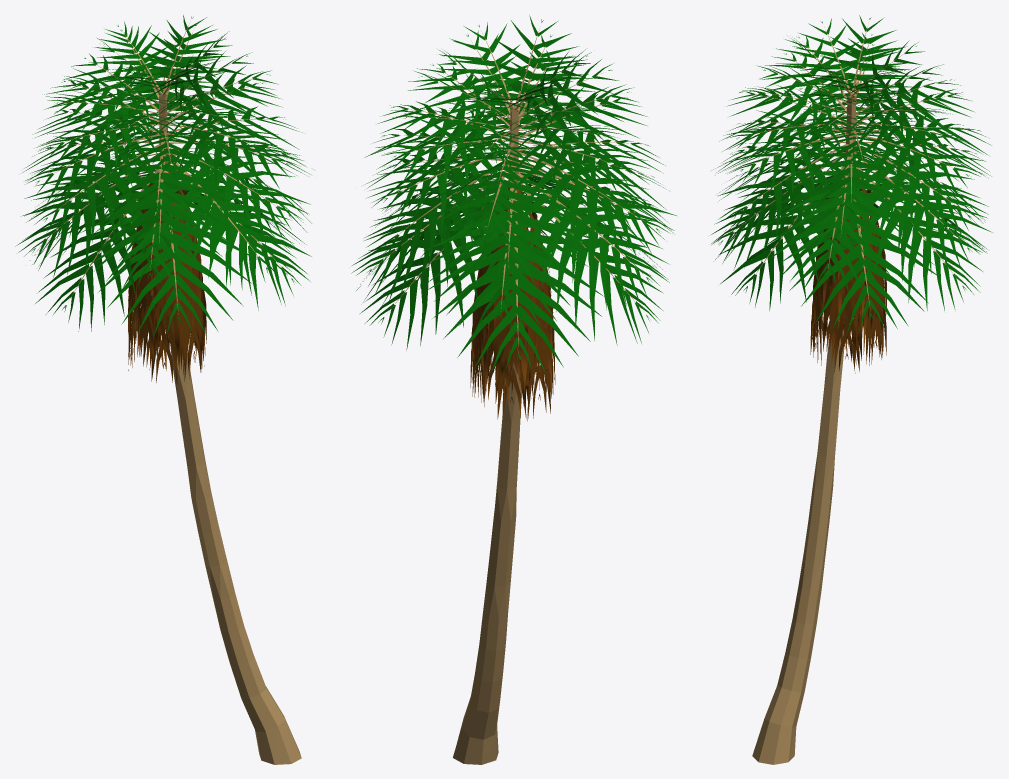
The model's file is Palm2.FBX.
3 views of the same model, side by side, from view 1: azimuth 30°, elevation 25°; view 2: azimuth 150°, elevation 25°; view 3: azimuth 270°, elevation 25° (orthographic). The views are drawn at different scales.
Visible parts, largest first — view 1: Palm2_2, Palm2_1, Palm2_3; view 2: Palm2_2, Palm2_1, Palm2_3; view 3: Palm2_2, Palm2_1, Palm2_3.
Part boxes in pixels (x1=…): Palm2_2: x1=15, y1=15, x2=311, y2=336; Palm2_1: x1=159, y1=94, x2=301, y2=764; Palm2_3: x1=128, y1=172, x2=206, y2=384; Palm2_2: x1=351, y1=15, x2=676, y2=373; Palm2_1: x1=453, y1=109, x2=521, y2=764; Palm2_3: x1=470, y1=188, x2=555, y2=421; Palm2_2: x1=711, y1=15, x2=992, y2=333; Palm2_1: x1=752, y1=96, x2=855, y2=764; Palm2_3: x1=810, y1=177, x2=886, y2=373.
Size of the model in its own units: 156 by 391 by 149.
